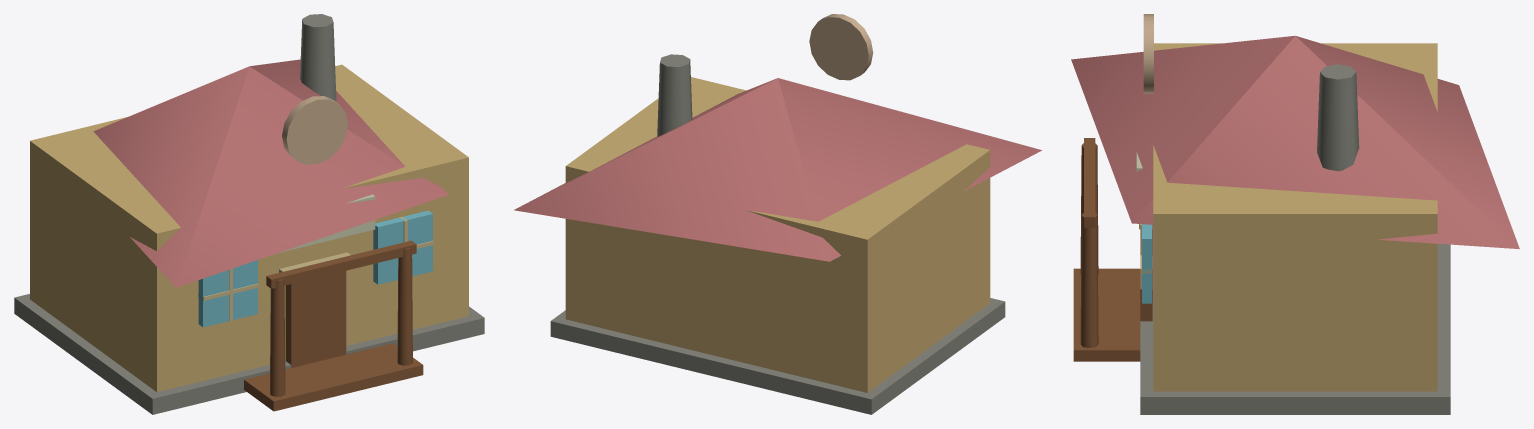
File: learning_hall.glb
The picture shows the model from 3 angles, left to right: view 1: azimuth 30°, elevation 25°; view 2: azimuth 150°, elevation 25°; view 3: azimuth 270°, elevation 25°; orthographic projection. The views are drawn at different scales.
Visible parts, largest first — view 1: learning_hall_body, learning_hall_roof, learning_hall_foundation, porch, door, clock_or_emblem, window_left, window_right, chimney, porch_beam, porch_post_145, porch_post_-145 (+1 smaller); view 2: learning_hall_body, learning_hall_roof, learning_hall_foundation, clock_or_emblem, chimney; view 3: learning_hall_body, learning_hall_roof, learning_hall_foundation, porch, chimney, porch_post_145, porch_beam, clock_or_emblem, window_right, porch_post_-145.
Boxes of the visible parts, left/top/right/bottom form: learning_hall_body: left=30, top=64, right=468, bottom=391; learning_hall_roof: left=93, top=59, right=448, bottom=287; learning_hall_foundation: left=14, top=294, right=484, bottom=414; porch: left=244, top=343, right=423, bottom=411; door: left=285, top=271, right=346, bottom=367; clock_or_emblem: left=282, top=96, right=347, bottom=164; window_left: left=198, top=260, right=257, bottom=327; window_right: left=373, top=210, right=432, bottom=284; chimney: left=300, top=14, right=336, bottom=101; porch_beam: left=266, top=240, right=416, bottom=288; porch_post_145: left=397, top=248, right=412, bottom=365; porch_post_-145: left=270, top=279, right=285, bottom=396; learning_hall_body: left=565, top=77, right=990, bottom=392; learning_hall_roof: left=514, top=78, right=1041, bottom=261; learning_hall_foundation: left=550, top=298, right=1005, bottom=414; clock_or_emblem: left=809, top=14, right=873, bottom=80; chimney: left=657, top=54, right=692, bottom=136; learning_hall_body: left=1153, top=43, right=1437, bottom=391; learning_hall_roof: left=1071, top=35, right=1519, bottom=249; learning_hall_foundation: left=1140, top=225, right=1450, bottom=414; porch: left=1073, top=268, right=1140, bottom=361; chimney: left=1317, top=64, right=1359, bottom=171; porch_post_145: left=1080, top=213, right=1098, bottom=347; porch_beam: left=1084, top=138, right=1095, bottom=227; clock_or_emblem: left=1143, top=14, right=1153, bottom=93; window_right: left=1142, top=224, right=1151, bottom=303; porch_post_-145: left=1080, top=143, right=1098, bottom=274.
Size of what is drawn, in the model's own units: 7.89 by 5.95 by 7.89.
